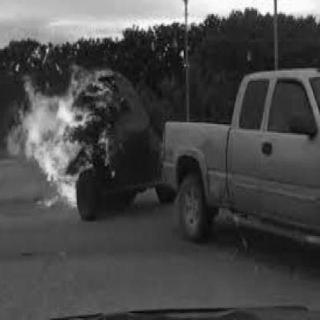Fire: (10, 61, 117, 217)
